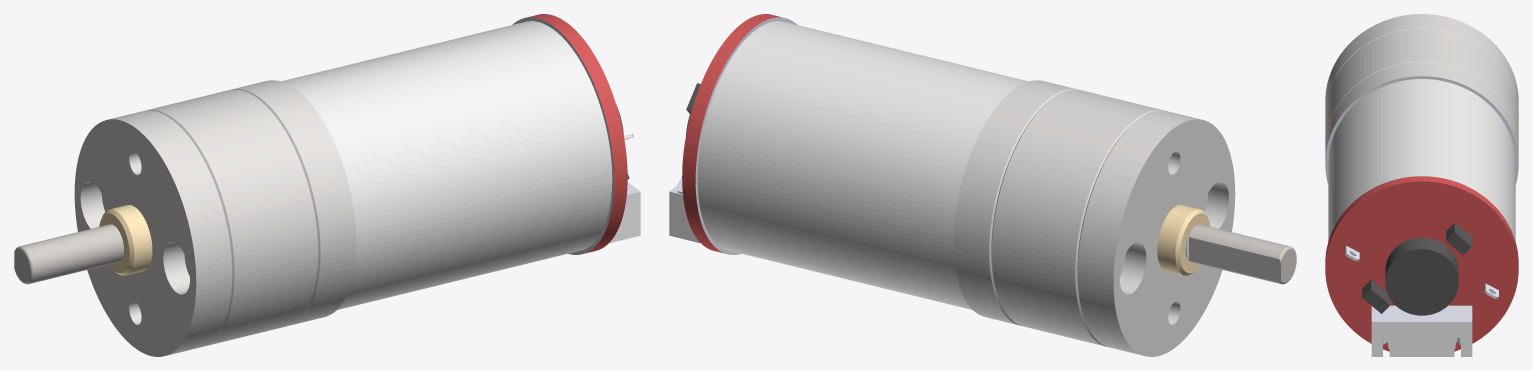
Rendered from motor_ga25_encoder.glb.
The picture shows the model from 3 angles, left to right: view 1: azimuth 30°, elevation 25°; view 2: azimuth 150°, elevation 25°; view 3: azimuth 270°, elevation 25°; orthographic projection. The views are drawn at different scales.
Parts seen in each view (by area): view 1: Node7, Node4, Node6, Node5, Node8, Node1, Node2; view 2: Node7, Node4, Node6, Node5, Node8, Node1, Node2; view 3: Node7, Node5, Node4, Node3, Node2, Node1.
Part boxes in pixels (bbox=[...]): Node7: bbox=[281, 21, 612, 309]; Node4: bbox=[74, 80, 356, 356]; Node6: bbox=[14, 224, 123, 284]; Node5: bbox=[527, 14, 627, 253]; Node8: bbox=[99, 205, 152, 275]; Node1: bbox=[512, 17, 639, 254]; Node2: bbox=[609, 191, 640, 243]; Node7: bbox=[697, 21, 1028, 309]; Node4: bbox=[953, 80, 1235, 356]; Node6: bbox=[1185, 224, 1296, 284]; Node5: bbox=[682, 14, 782, 253]; Node8: bbox=[1157, 205, 1210, 275]; Node1: bbox=[669, 17, 1188, 259]; Node2: bbox=[669, 191, 700, 243]; Node7: bbox=[1328, 79, 1515, 240]; Node5: bbox=[1325, 176, 1518, 351]; Node4: bbox=[1325, 14, 1518, 157]; Node3: bbox=[1362, 222, 1471, 315]; Node2: bbox=[1371, 322, 1472, 356]; Node1: bbox=[1325, 76, 1518, 345].
Bounding box in the file's own units: 69.7 × 25 × 25.
